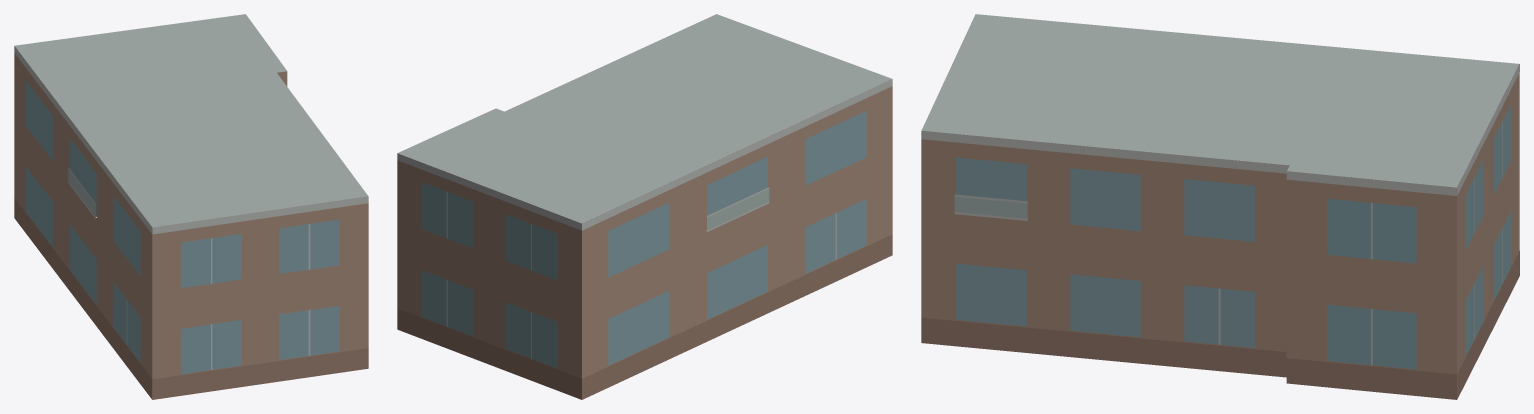
File: survey-upis-32811371.glb
The picture shows the model from 3 angles, left to right: view 1: azimuth 30°, elevation 25°; view 2: azimuth 150°, elevation 25°; view 3: azimuth 270°, elevation 25°; orthographic projection. The views are drawn at different scales.
Visible parts, largest first — view 1: survey-upis-32811371.tmp; view 2: survey-upis-32811371.tmp; view 3: survey-upis-32811371.tmp.
Part boxes in pixels (x1,y1,x2,y2): survey-upis-32811371.tmp: (14, 14, 368, 399); survey-upis-32811371.tmp: (397, 14, 892, 399); survey-upis-32811371.tmp: (921, 14, 1519, 399).
Size of the model in its own units: 10.71 by 6.1 by 15.6.
